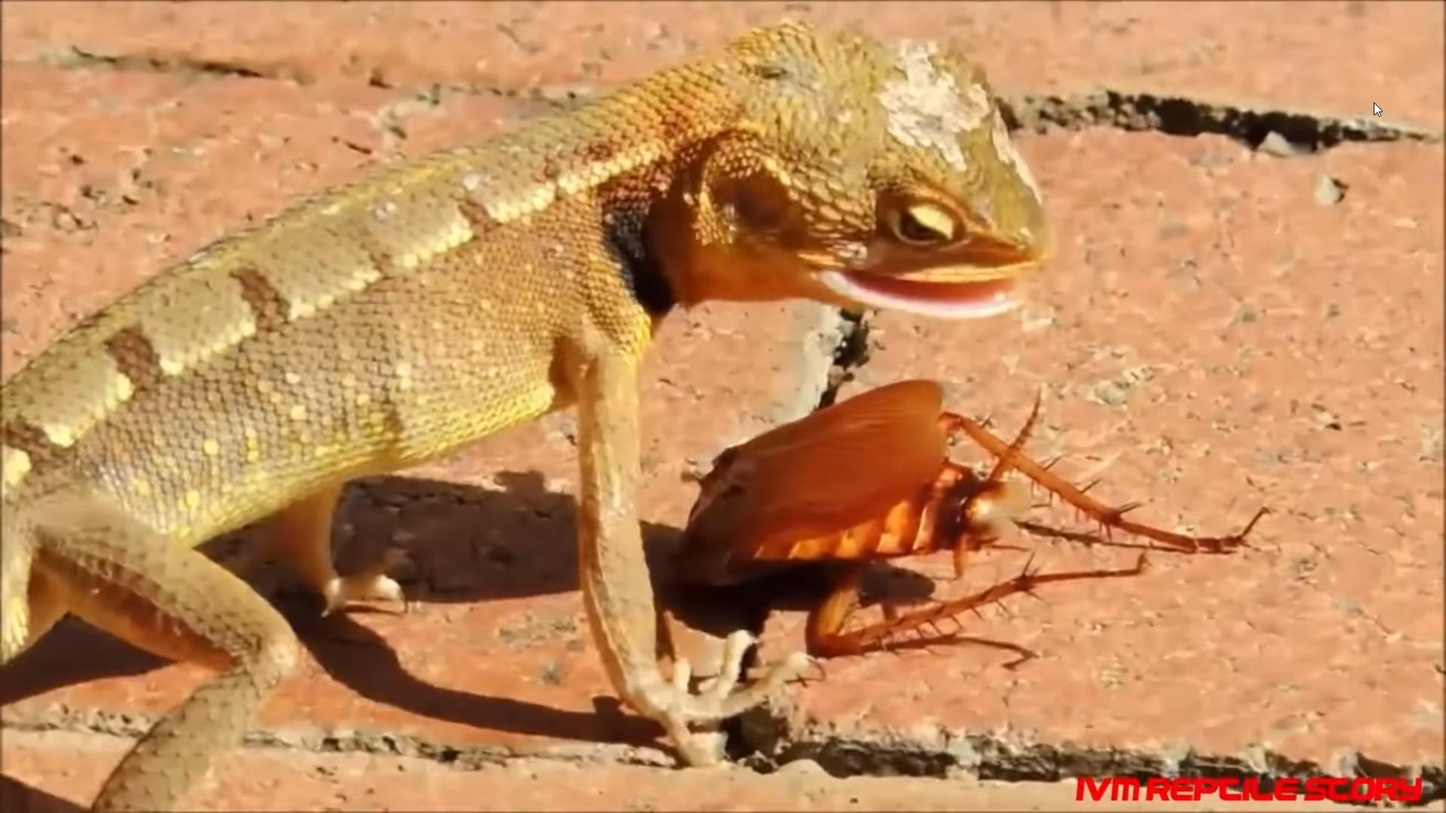cockroach: (679, 371, 1031, 660)
lizard: (94, 21, 1053, 770)
